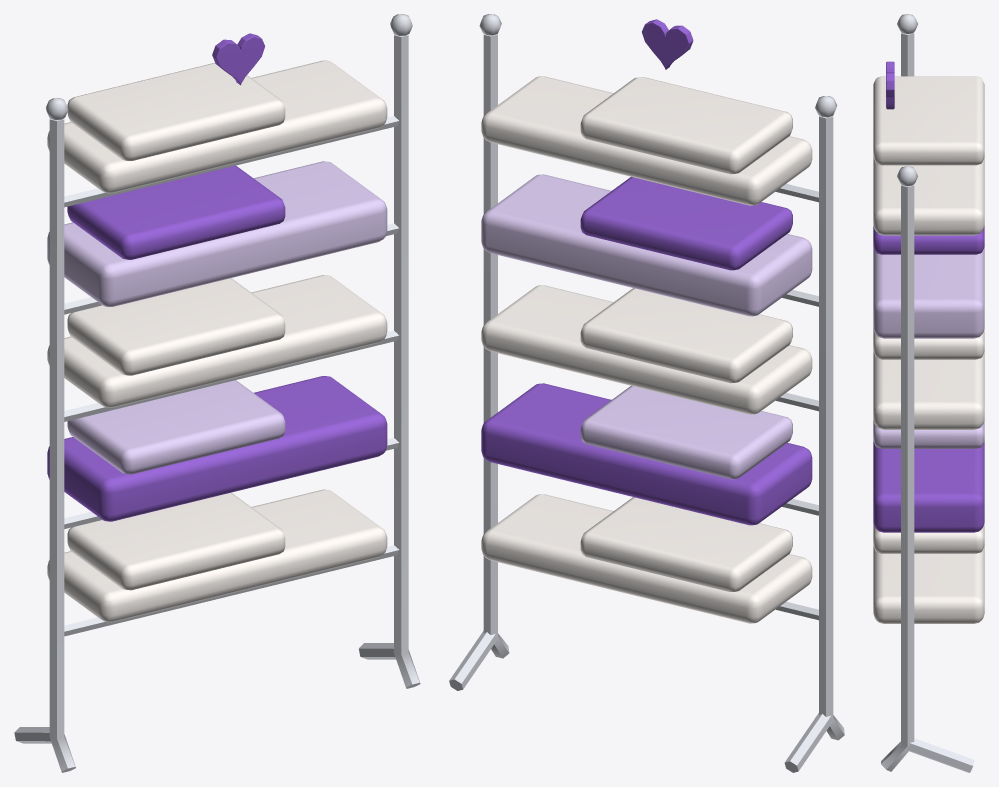
Rendered from towel_warmer_rack.glb.
3 renders of one model, left to right at view 1: azimuth 30°, elevation 25°; view 2: azimuth 150°, elevation 25°; view 3: azimuth 270°, elevation 25°, orthographic. The views are drawn at different scales.
Visible parts, largest first — view 1: towel_warmer_rack; view 2: towel_warmer_rack; view 3: towel_warmer_rack.
Part boxes in pixels (x1,y1,x2,y2): towel_warmer_rack: (14, 14, 420, 772); towel_warmer_rack: (449, 14, 844, 772); towel_warmer_rack: (873, 14, 984, 772).
Bounding box in the file's own units: 0.89 × 1.62 × 0.26.
